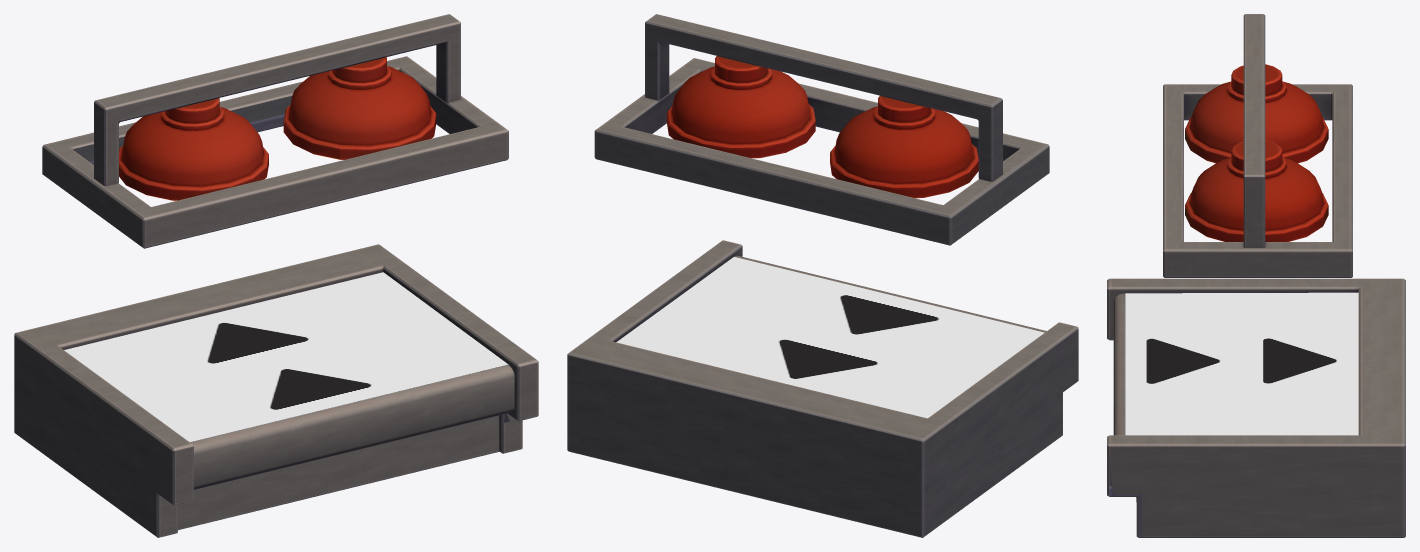
File: serveDishes.glb
3 renders of one model, left to right at view 1: azimuth 30°, elevation 25°; view 2: azimuth 150°, elevation 25°; view 3: azimuth 270°, elevation 25°, orthographic. The views are drawn at different scales.
Parts seen in each view (by area): view 1: Object_4.003, direction; view 2: Object_4.003, direction; view 3: Object_4.003, direction.
Part boxes in pixels (bbox=[...]): Object_4.003: bbox=[14, 14, 538, 537]; direction: bbox=[64, 272, 508, 441]; Object_4.003: bbox=[567, 14, 1078, 537]; direction: bbox=[616, 257, 1044, 418]; Object_4.003: bbox=[1107, 14, 1405, 537]; direction: bbox=[1125, 292, 1358, 435].
Size of the model in its own units: 4 by 4.05 by 3.04.
2 materials, 2 textured.
